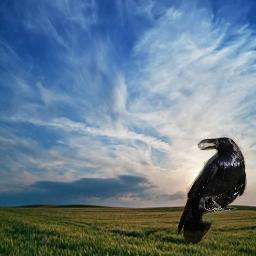Crow: (177, 137, 247, 246)
